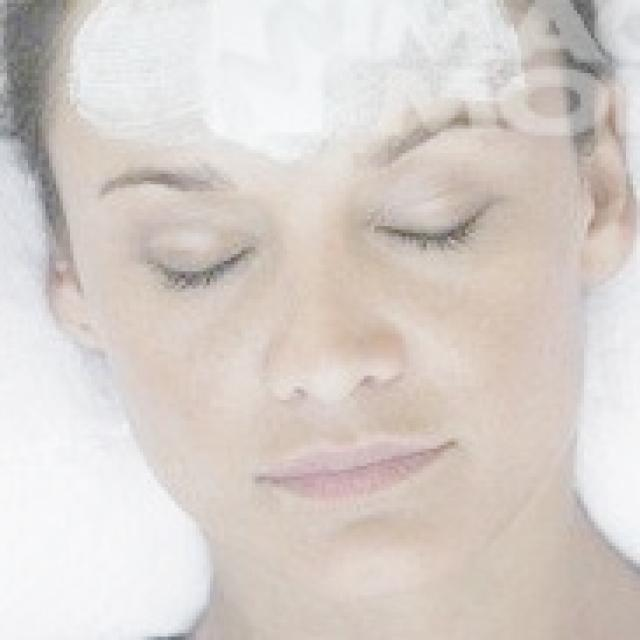sleepy: (94, 76, 552, 529)
